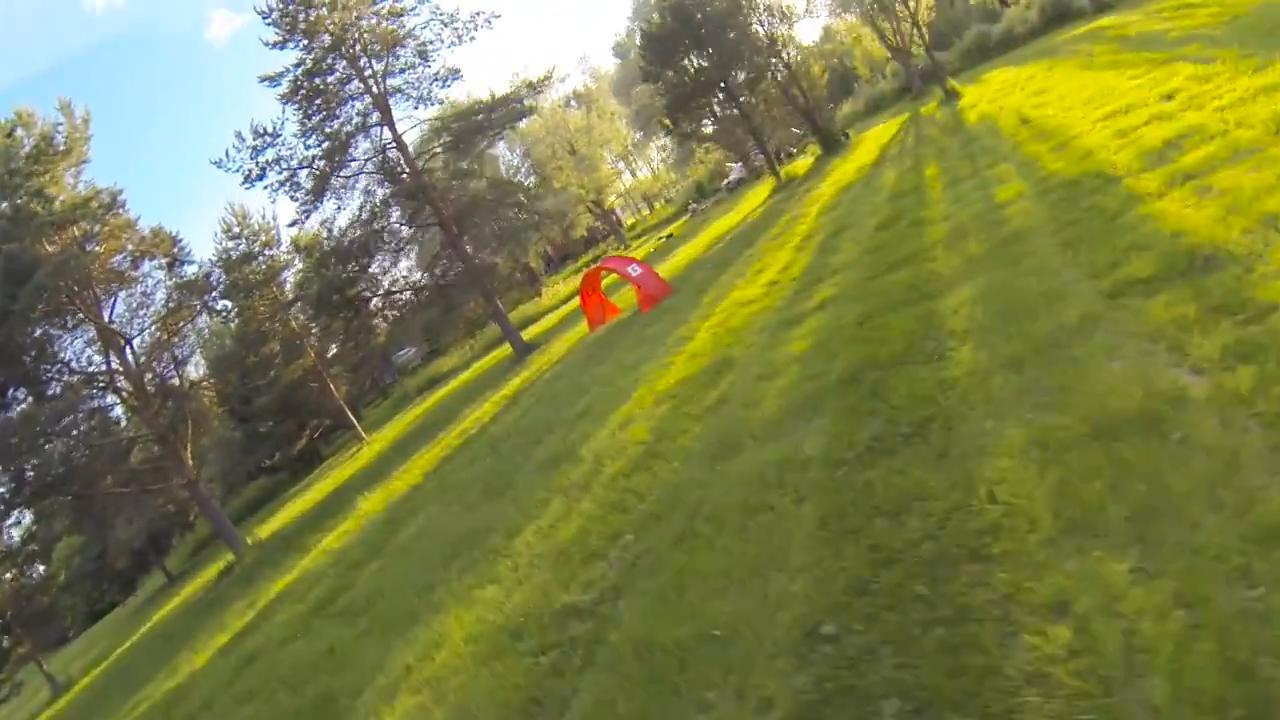gate: (576, 255, 675, 336)
